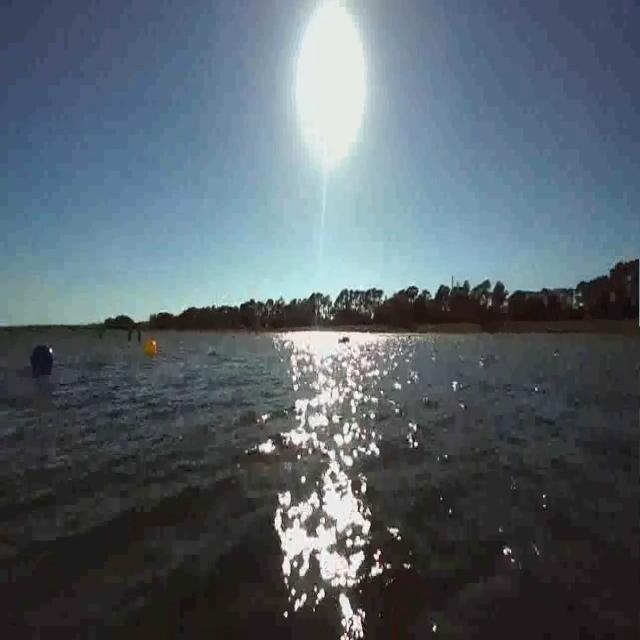black-buoy: (30, 342, 53, 379)
yellow-buoy: (144, 338, 158, 359)
